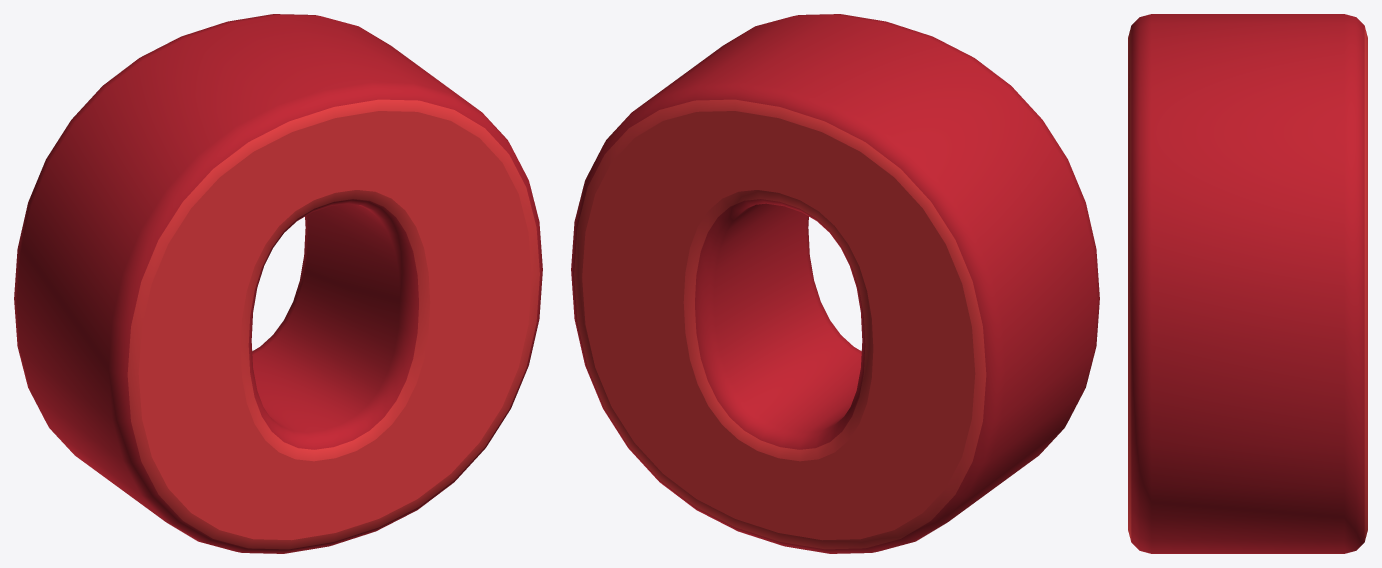
The model's file is letter_O_red.glb.
3 renders of one model, left to right at view 1: azimuth 30°, elevation 25°; view 2: azimuth 150°, elevation 25°; view 3: azimuth 270°, elevation 25°, orthographic. The views are drawn at different scales.
Visible parts, largest first — view 1: MOBP_letter_O_red; view 2: MOBP_letter_O_red; view 3: MOBP_letter_O_red.
Part boxes in pixels (x1,y1,x2,y2): MOBP_letter_O_red: (14, 14, 542, 553); MOBP_letter_O_red: (571, 14, 1099, 553); MOBP_letter_O_red: (1128, 14, 1367, 553).
Bounding box in the file's own units: 0.0843 × 0.085 × 0.0384.
